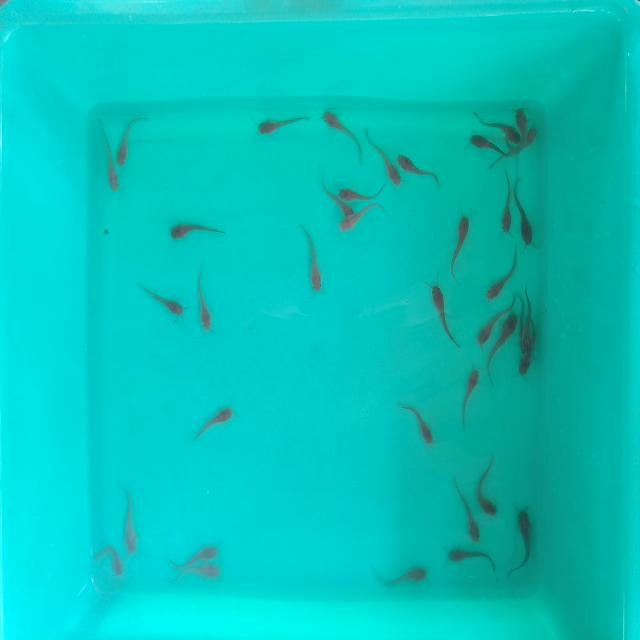lele: (364, 130, 406, 187), (132, 280, 184, 323), (314, 167, 355, 220), (431, 283, 461, 351), (454, 482, 485, 544), (397, 401, 436, 449), (189, 407, 236, 445), (401, 152, 446, 188), (514, 176, 536, 248), (302, 230, 326, 295), (450, 216, 474, 278), (116, 115, 148, 161), (476, 456, 499, 518), (98, 120, 117, 194), (513, 506, 533, 575), (342, 202, 386, 233), (167, 541, 226, 564), (322, 108, 358, 144), (461, 365, 479, 434), (486, 248, 510, 299), (381, 566, 432, 590), (258, 114, 311, 136), (170, 220, 224, 240), (468, 134, 508, 160), (449, 546, 501, 566), (124, 486, 138, 557), (474, 113, 516, 136), (497, 312, 516, 362), (340, 187, 390, 205), (499, 167, 512, 235), (476, 303, 496, 347), (104, 542, 128, 577), (168, 564, 224, 579), (194, 286, 212, 332), (525, 277, 537, 342), (520, 341, 534, 378), (511, 105, 529, 131), (517, 292, 526, 335), (525, 126, 541, 150)
